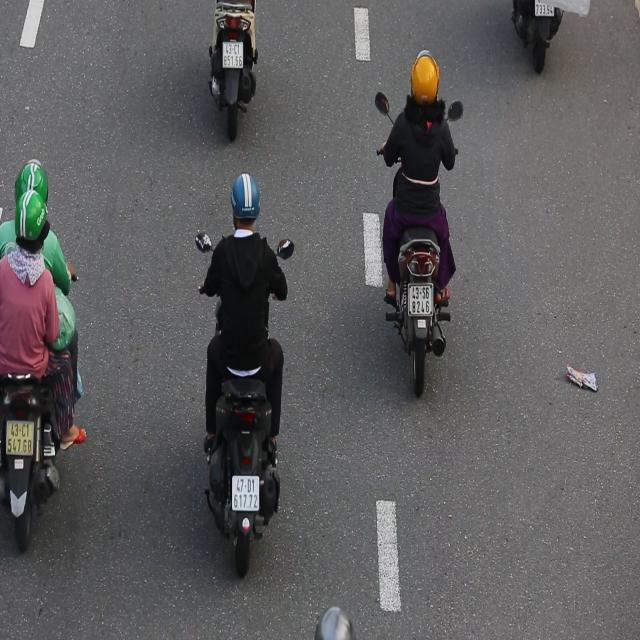motorbike: (197, 170, 302, 590), (0, 147, 87, 557), (374, 42, 464, 402)
